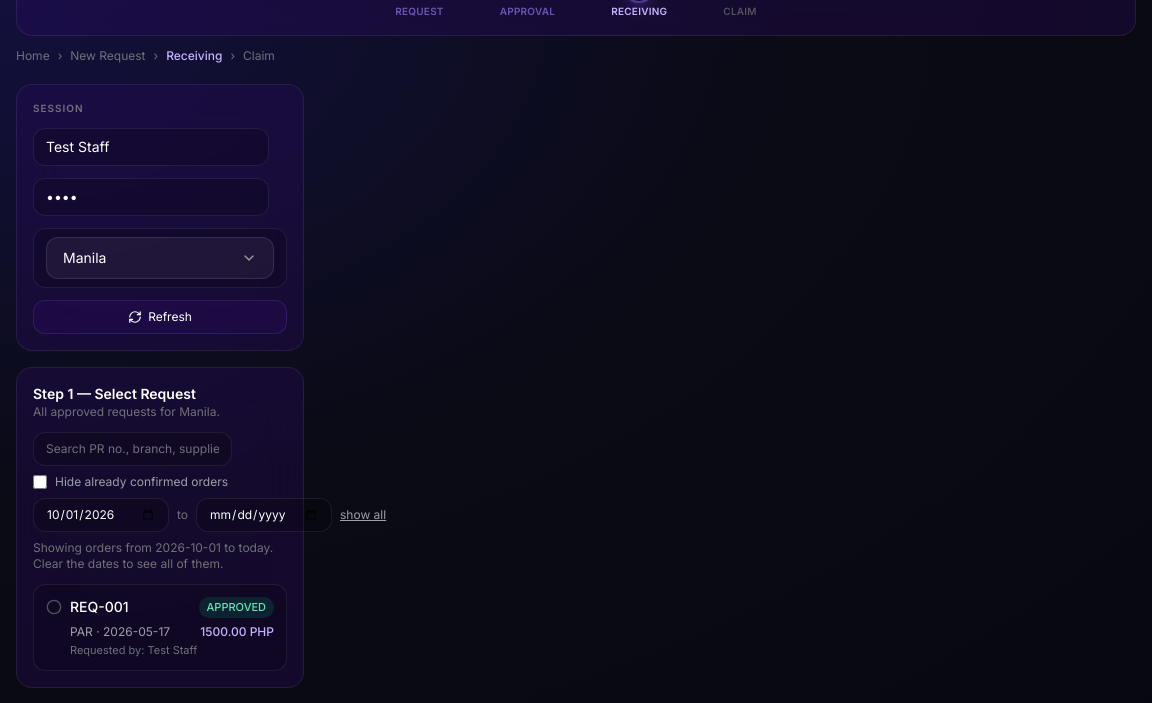
Test: Fix 4: Receiving page — All received 2-step guard › clicking 'No' in the confirmation dismisses it without checking items
The image size is (1152, 703).
(page scrolled)
Click the text "REQ-001" at (99, 607), box [70,597,129,617]
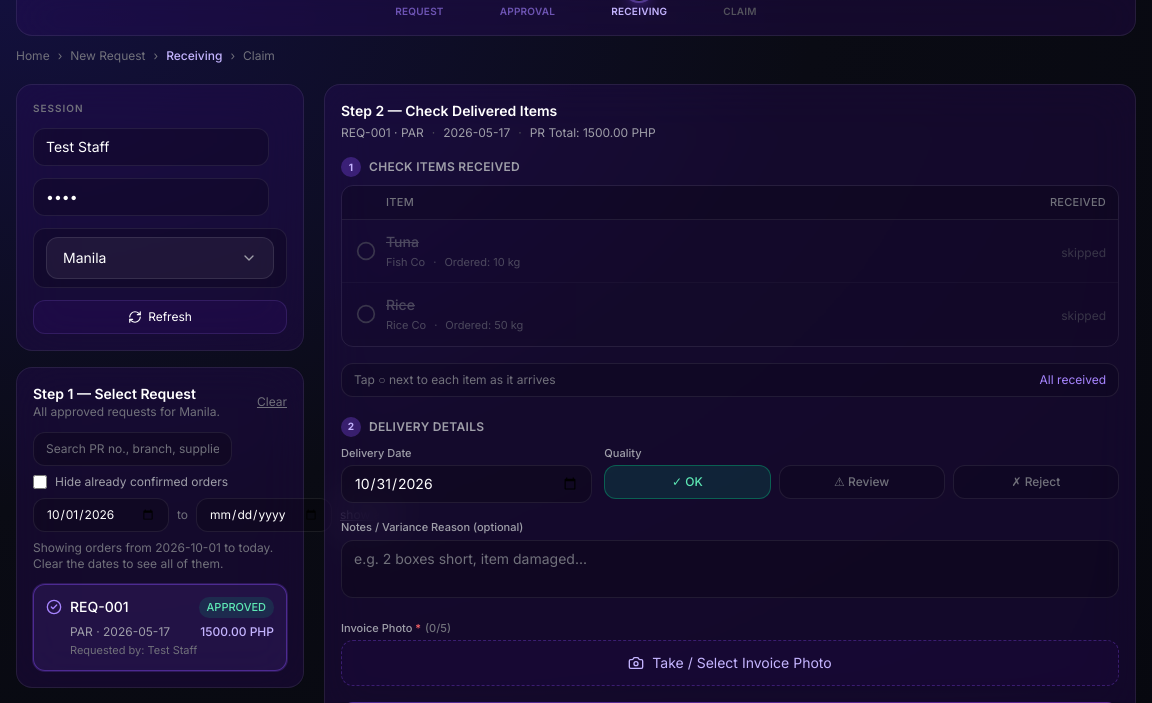
expect the text "Tuna" is shown: met, box [386,232,419,250]
Click the button "All received" at (1073, 380), box [1040,372,1106,388]
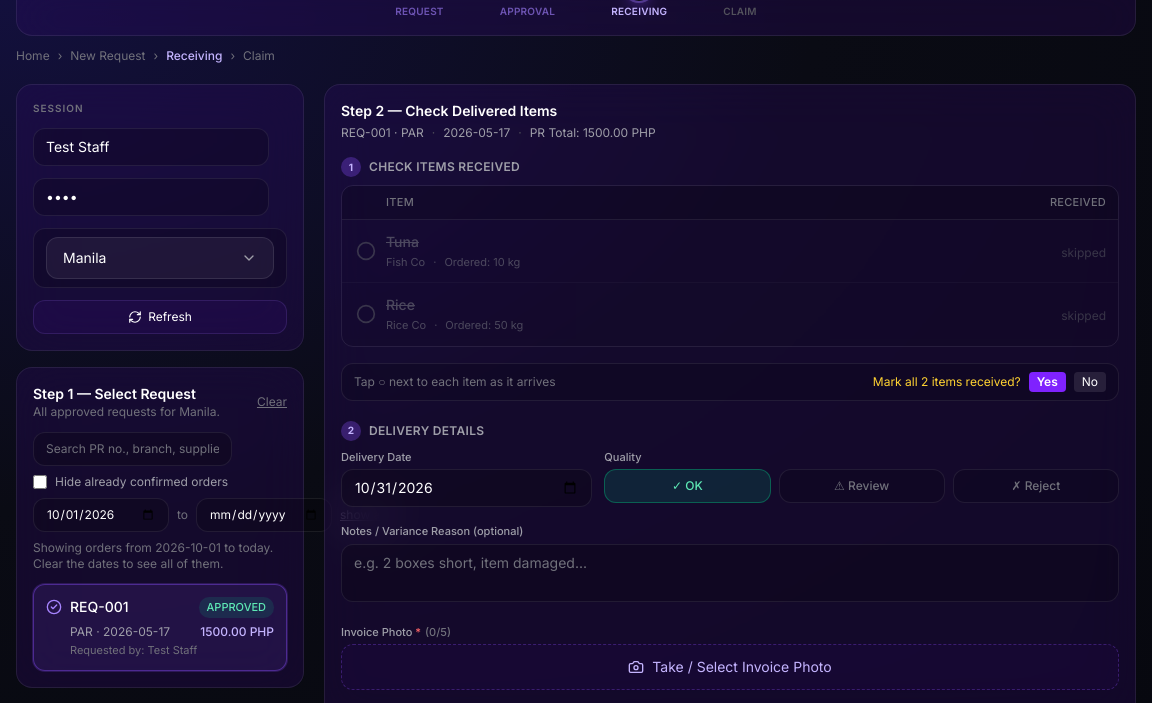
expect the button "No" is shown: met
Click the button "No" at (1090, 382), box [1074,372,1106,392]
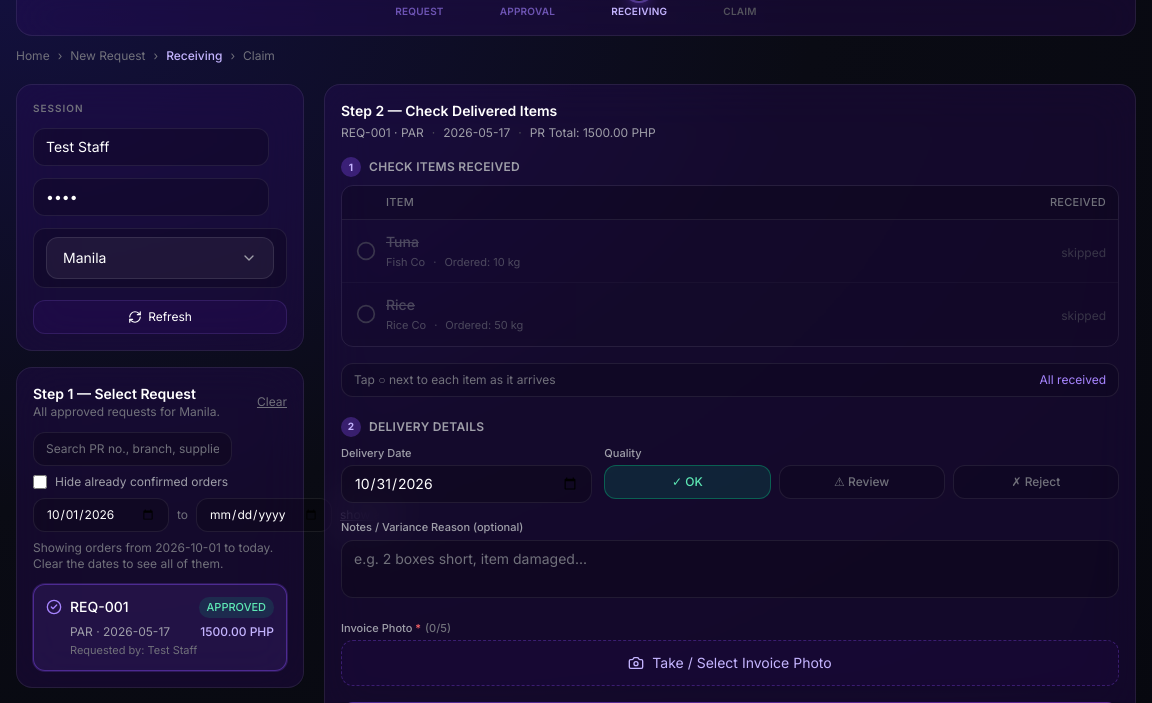
expect the text "Mark all 2 items received?" is gone: met
expect the button "All received" is shown: met, box [1040,372,1106,388]
